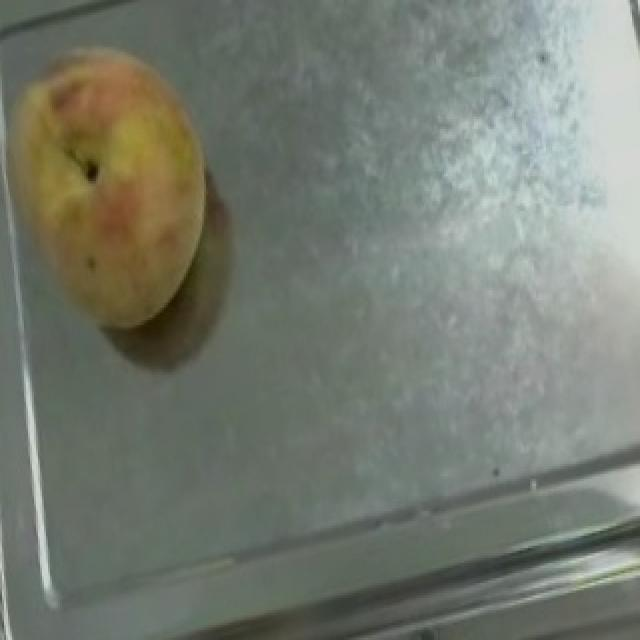Fruit: (0, 12, 236, 348)
